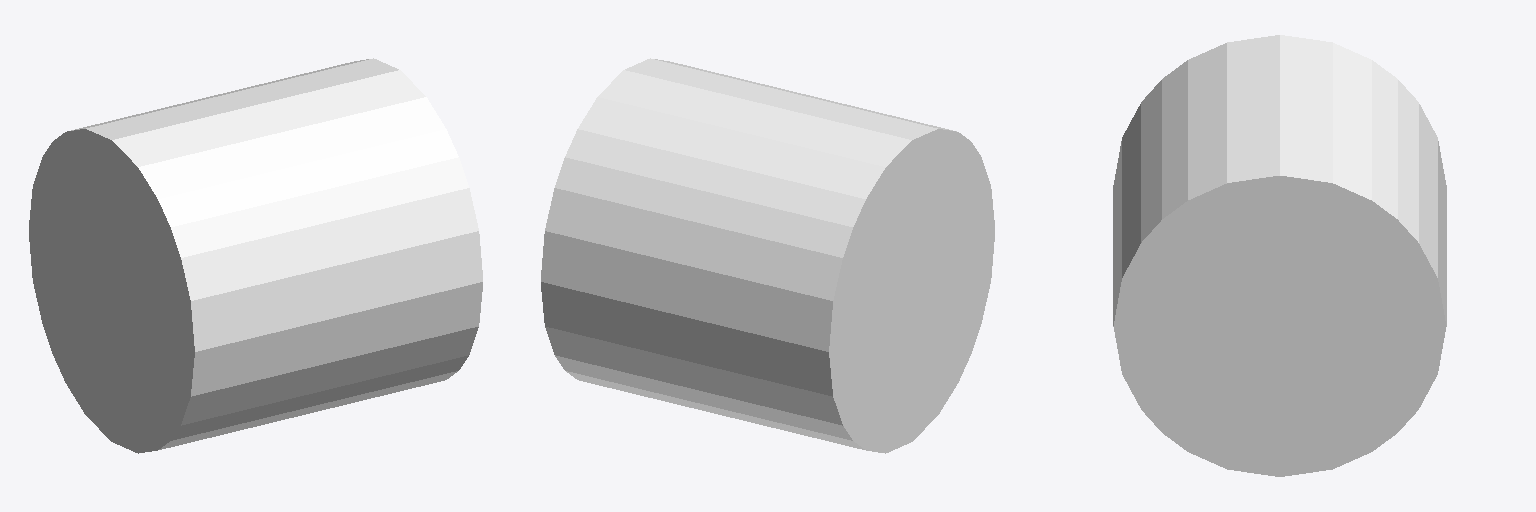
Rendered from FuelTank.obj.
3 views of the same model, side by side, from view 1: azimuth 30°, elevation 25°; view 2: azimuth 150°, elevation 25°; view 3: azimuth 270°, elevation 25° (orthographic).
Visible parts, largest first — view 1: Handle1; view 2: Handle1; view 3: Handle1.
Part boxes in pixels (x1,y1,x2,y2): Handle1: (29,58,482,453); Handle1: (541,58,994,453); Handle1: (1113,35,1446,476).
Size of the model in its own units: 1.5 by 1.5 by 1.5.